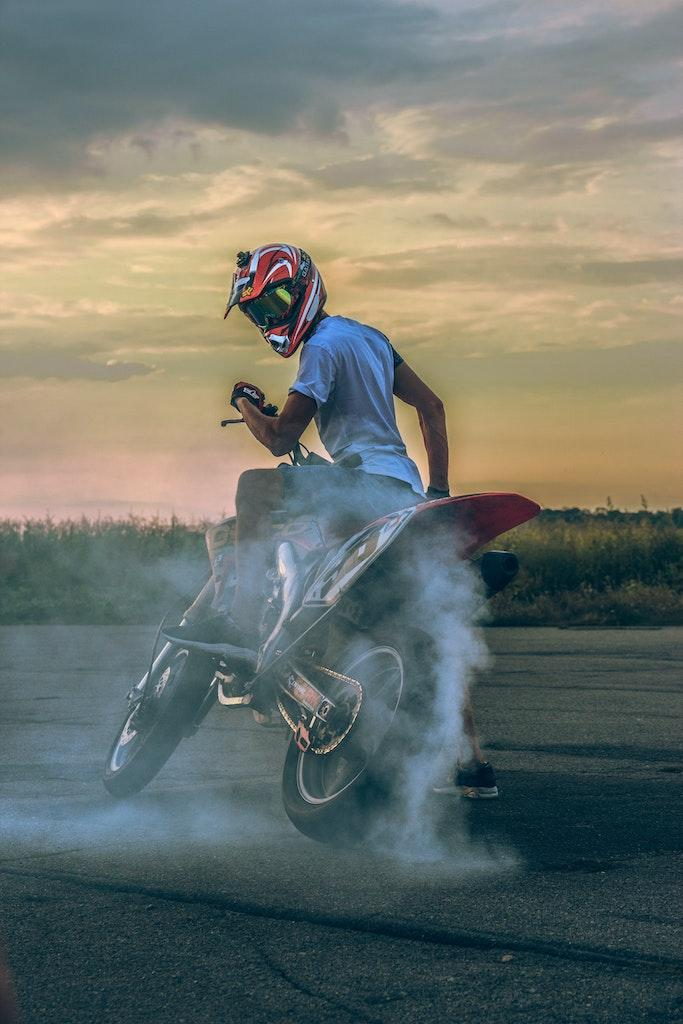helmet: (223, 241, 328, 359)
